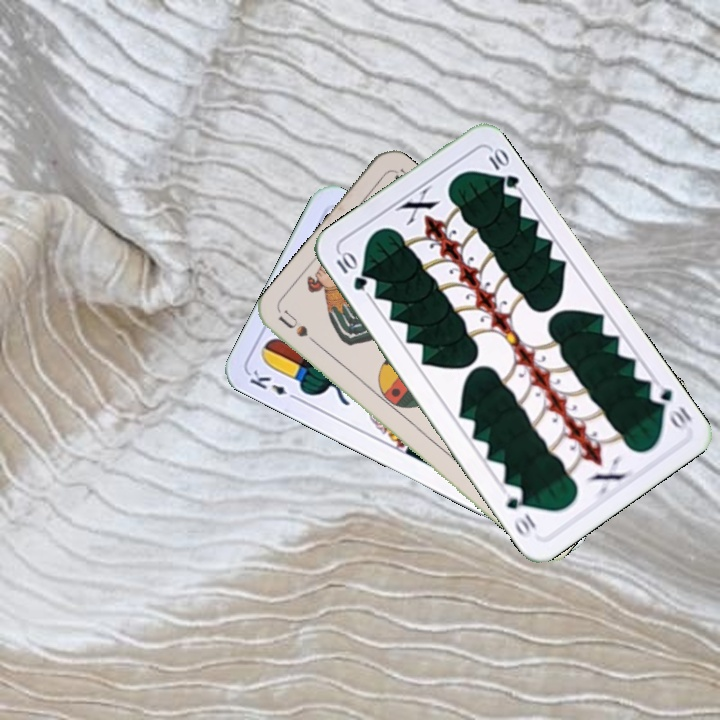EK: (245, 366, 302, 404)
G10: (645, 378, 695, 433), (332, 247, 370, 293)
SU: (275, 307, 327, 353)
